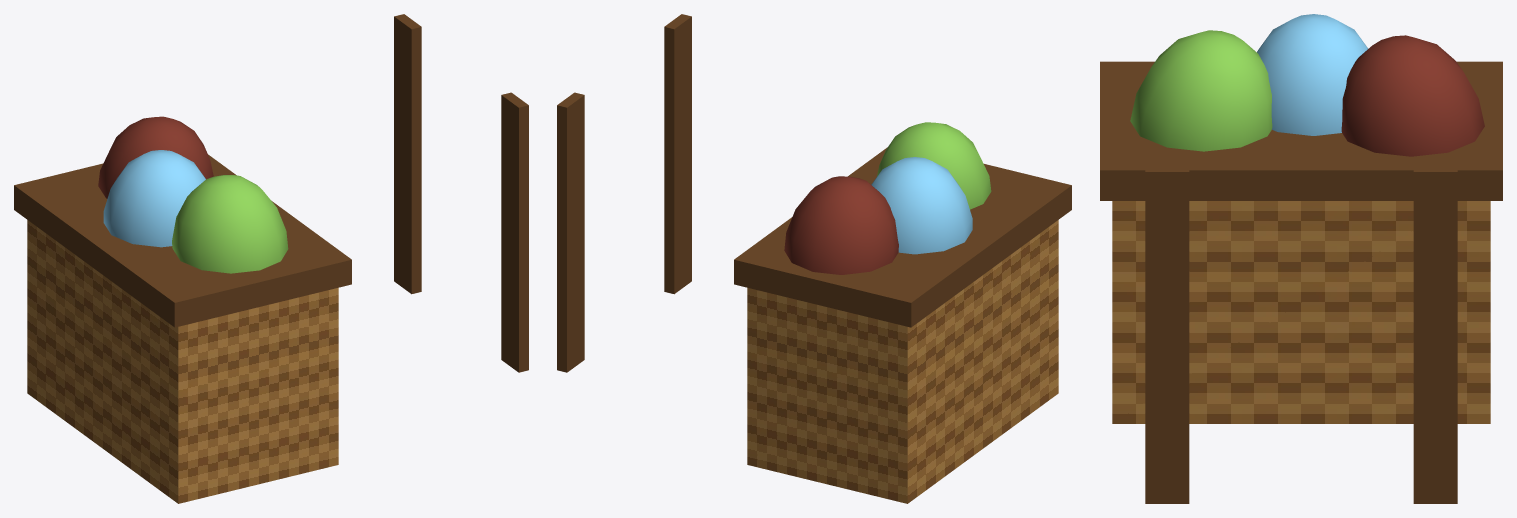
The model's file is back_egg_basket.glb.
The picture shows the model from 3 angles, left to right: view 1: azimuth 30°, elevation 25°; view 2: azimuth 150°, elevation 25°; view 3: azimuth 270°, elevation 25°; orthographic projection. The views are drawn at different scales.
Visible parts, largest first — view 1: Back; view 2: Back; view 3: Back.
Part boxes in pixels (x1=…): Back: x1=14, y1=14, x2=528, y2=503; Back: x1=557, y1=14, x2=1071, y2=503; Back: x1=1100, y1=14, x2=1502, y2=503.
Bounding box in the file's own units: 0.6615 × 0.51 × 0.495.
Materials: 2 (1 with a texture image).
